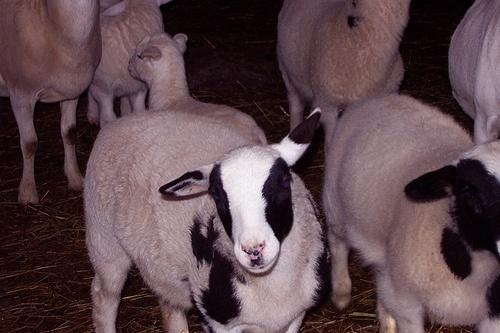sheep: (79, 107, 321, 333), (323, 92, 500, 330), (1, 1, 108, 208), (274, 1, 422, 139), (128, 33, 271, 156)
